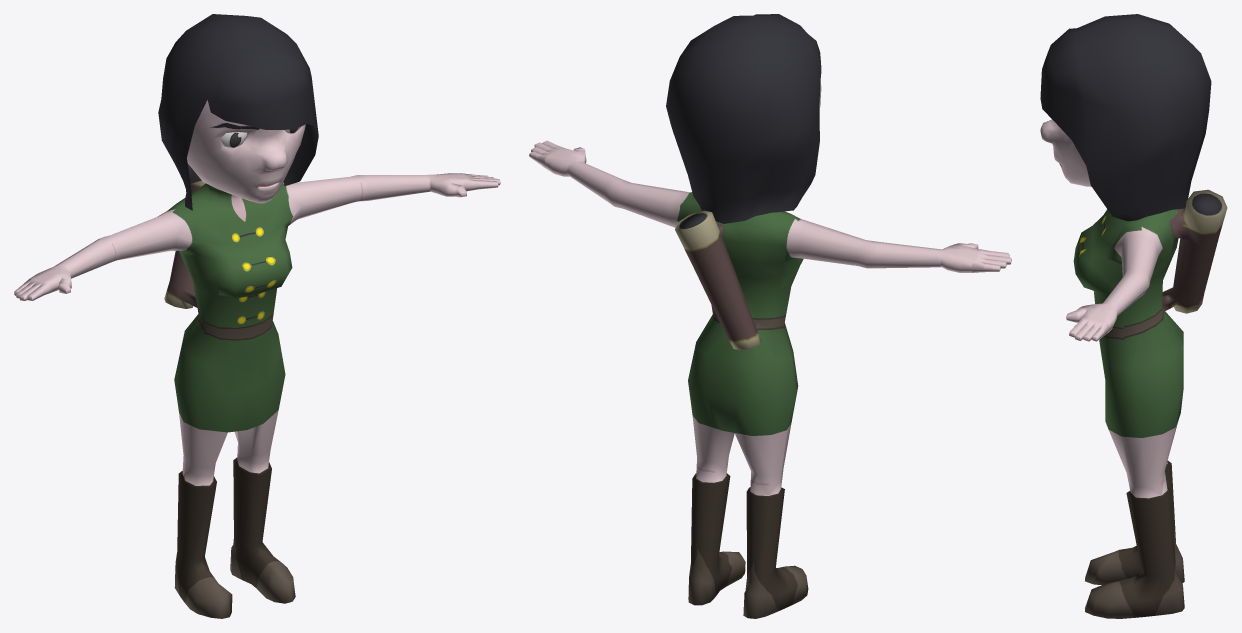
Rendered from FemaleArcher-no-weapon.fbx.
3 renders of one model, left to right at view 1: azimuth 30°, elevation 25°; view 2: azimuth 150°, elevation 25°; view 3: azimuth 270°, elevation 25°, orthographic.
Parts seen in each view (by area): view 1: Female_Archer; view 2: Female_Archer; view 3: Female_Archer.
Boxes of the visible parts, <box> form: Female_Archer: <box>14,14,500,618</box>; Female_Archer: <box>529,14,1011,618</box>; Female_Archer: <box>1040,14,1227,618</box>.
Bounding box in the file's own units: 2.46 × 0.8291 × 2.81.
Materials: 1 (1 with a texture image).
